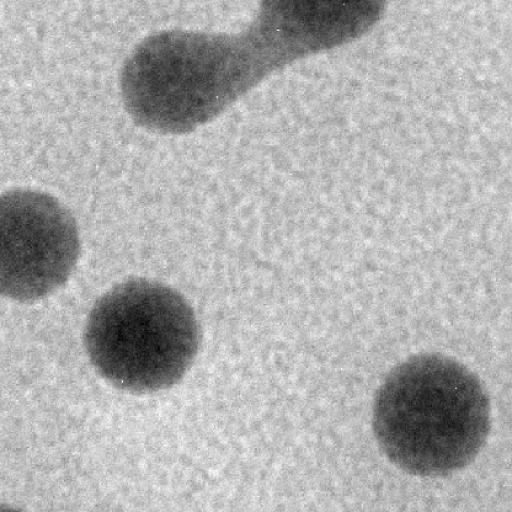Nanoparticles: (368, 348, 499, 478), (88, 272, 206, 398), (119, 24, 246, 140), (249, 2, 392, 90), (3, 183, 85, 305), (2, 500, 23, 512)
